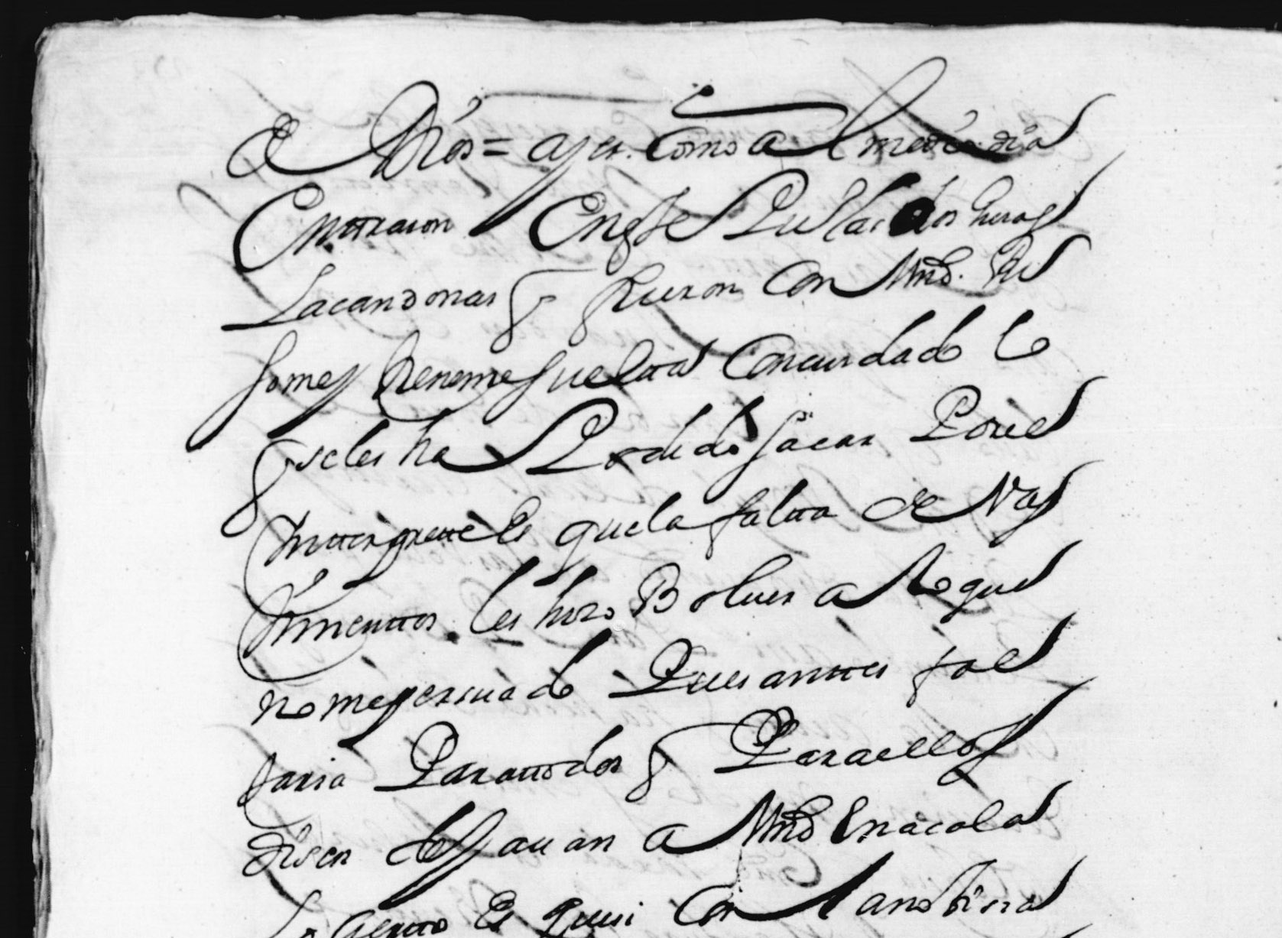lacandon: (220, 263, 496, 331)
